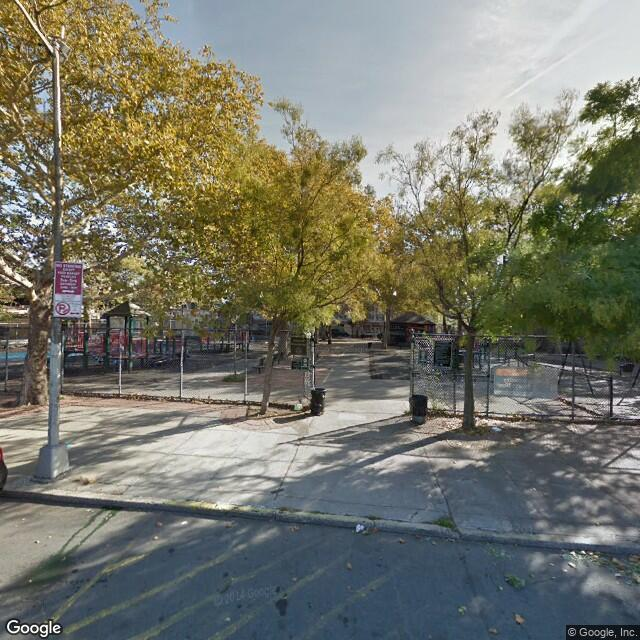litter: (356, 521, 365, 535), (180, 519, 190, 526)
